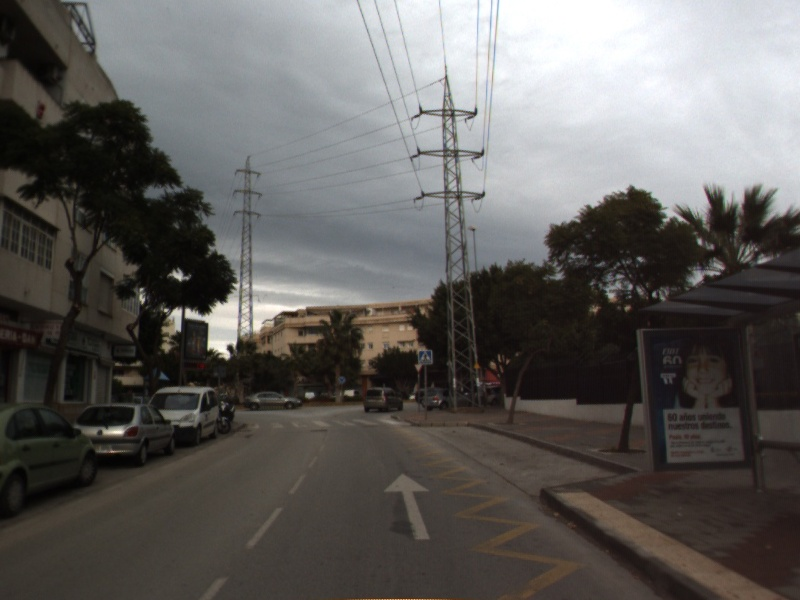STRAIGHT: (381, 471, 434, 542)
